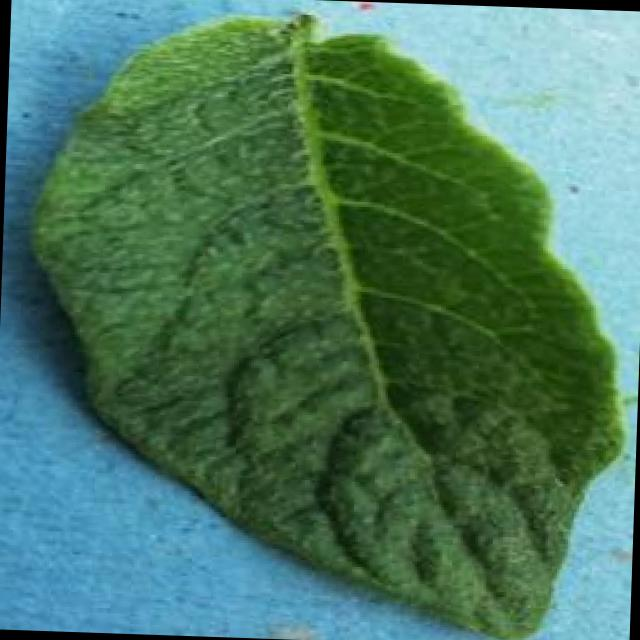Potato_Healthy: (16, 2, 629, 640)
